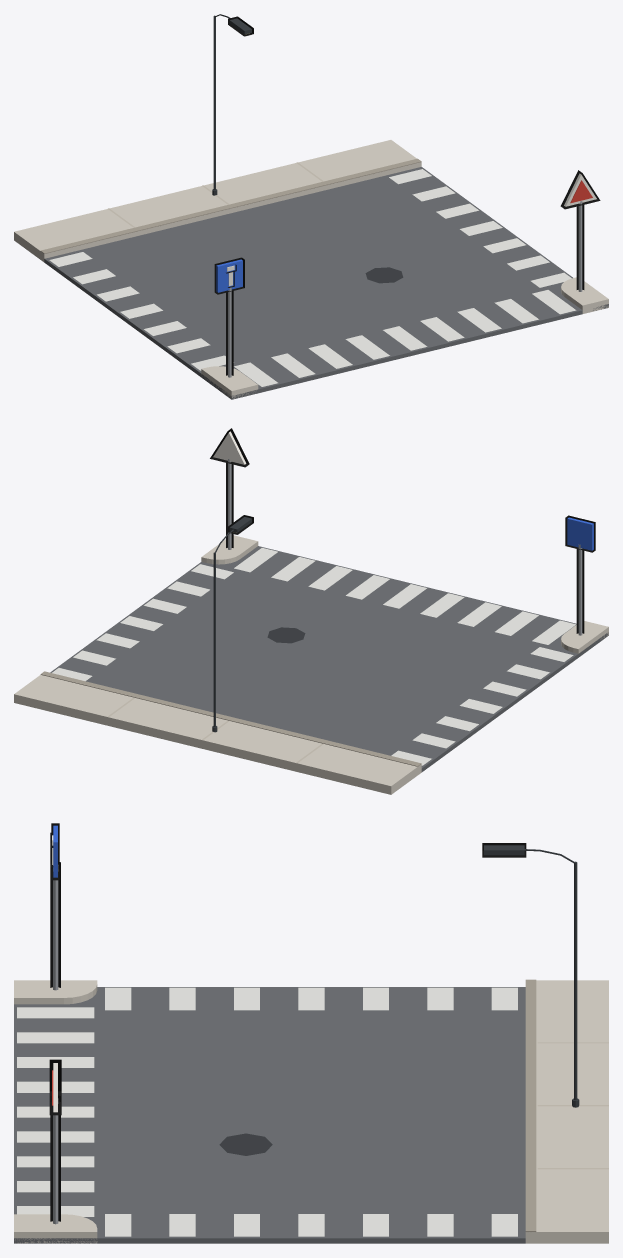
Rendered from Yol_t_sc.fbx.
3 renders of one model, top to bottom at view 1: azimuth 30°, elevation 25°; view 2: azimuth 150°, elevation 25°; view 3: azimuth 270°, elevation 25°, orthographic. The views are drawn at different scales.
Parts seen in each view (by area): view 1: Yol_t_sc; view 2: Yol_t_sc; view 3: Yol_t_sc.
Part boxes in pixels (box(x1,y1,x2,y2)): Yol_t_sc: box(14, 14, 608, 399); Yol_t_sc: box(14, 428, 608, 794); Yol_t_sc: box(14, 823, 608, 1243).
Bounding box in the file's own units: 10.13 × 5.04 × 10.
